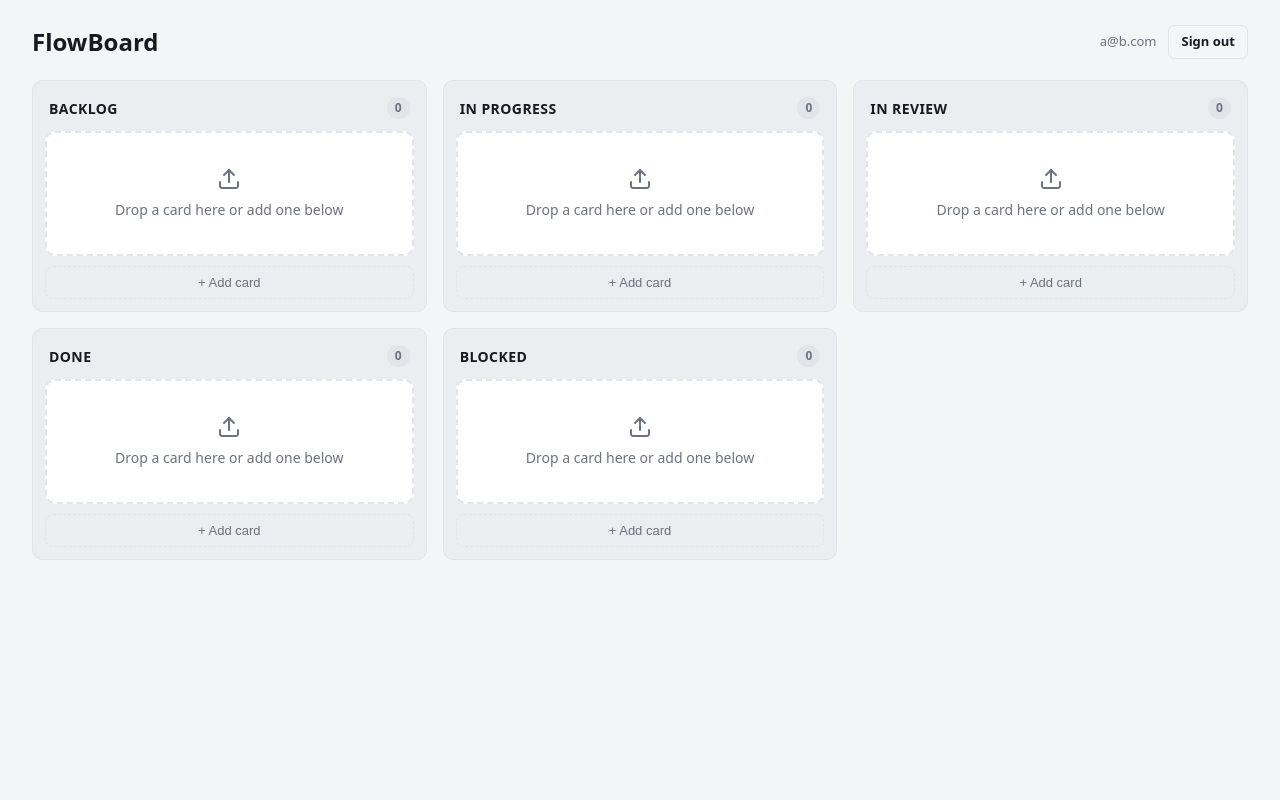
Test: Board › creates a new card via the modal
Click the button "+ Add card" below "Backlog".
click(229, 282)  # box [45,266,414,299]
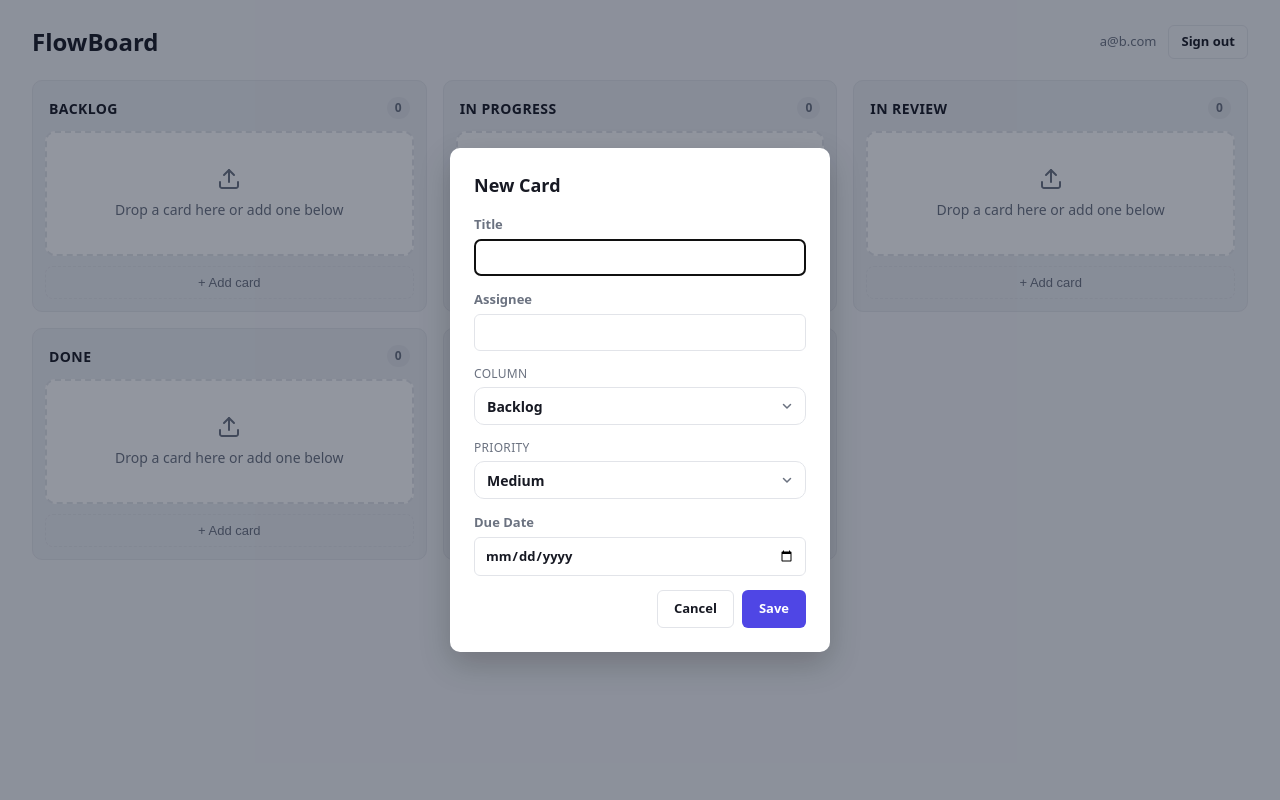
Type "Write docs" into the field labelled "Title".
click(640, 258); type("Write docs")  # box [474,239,806,276]
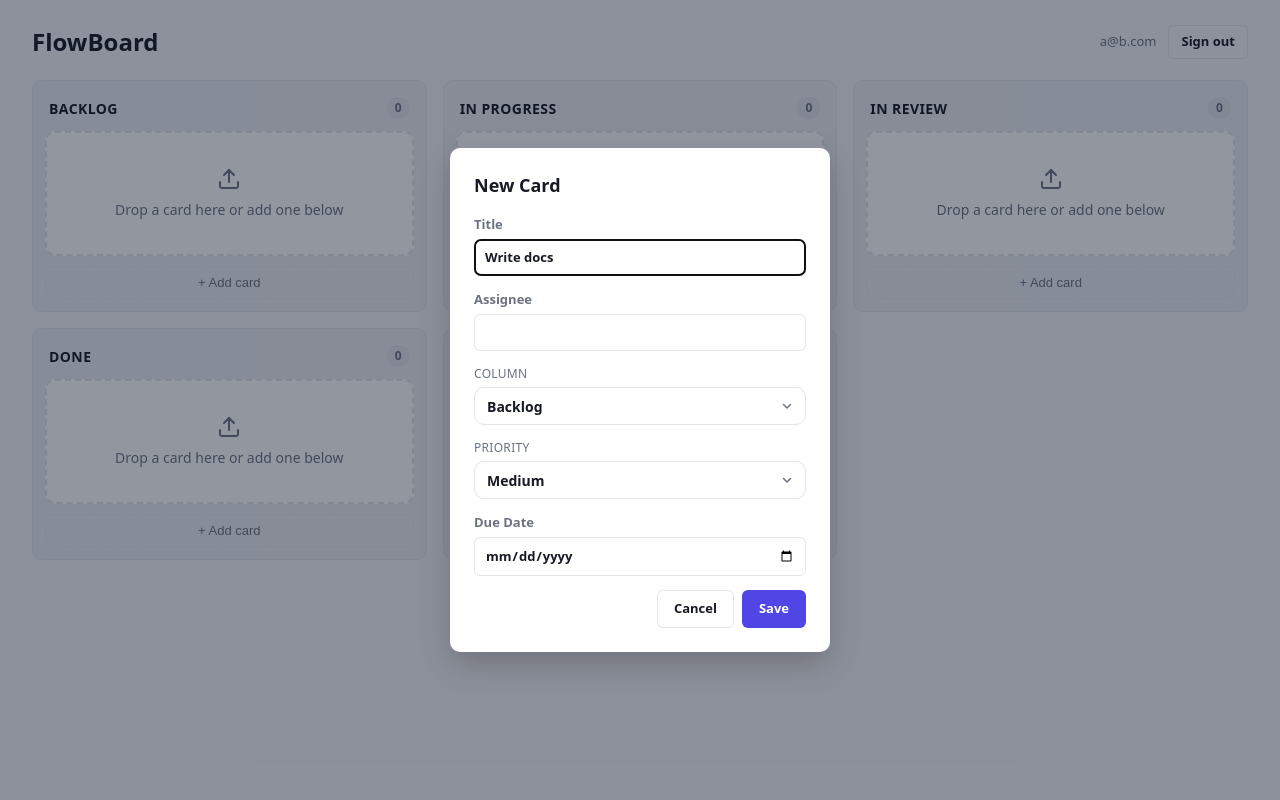
Type "Dana" into the field labelled "Assignee".
click(640, 333); type("Dana")  # box [474,314,806,351]
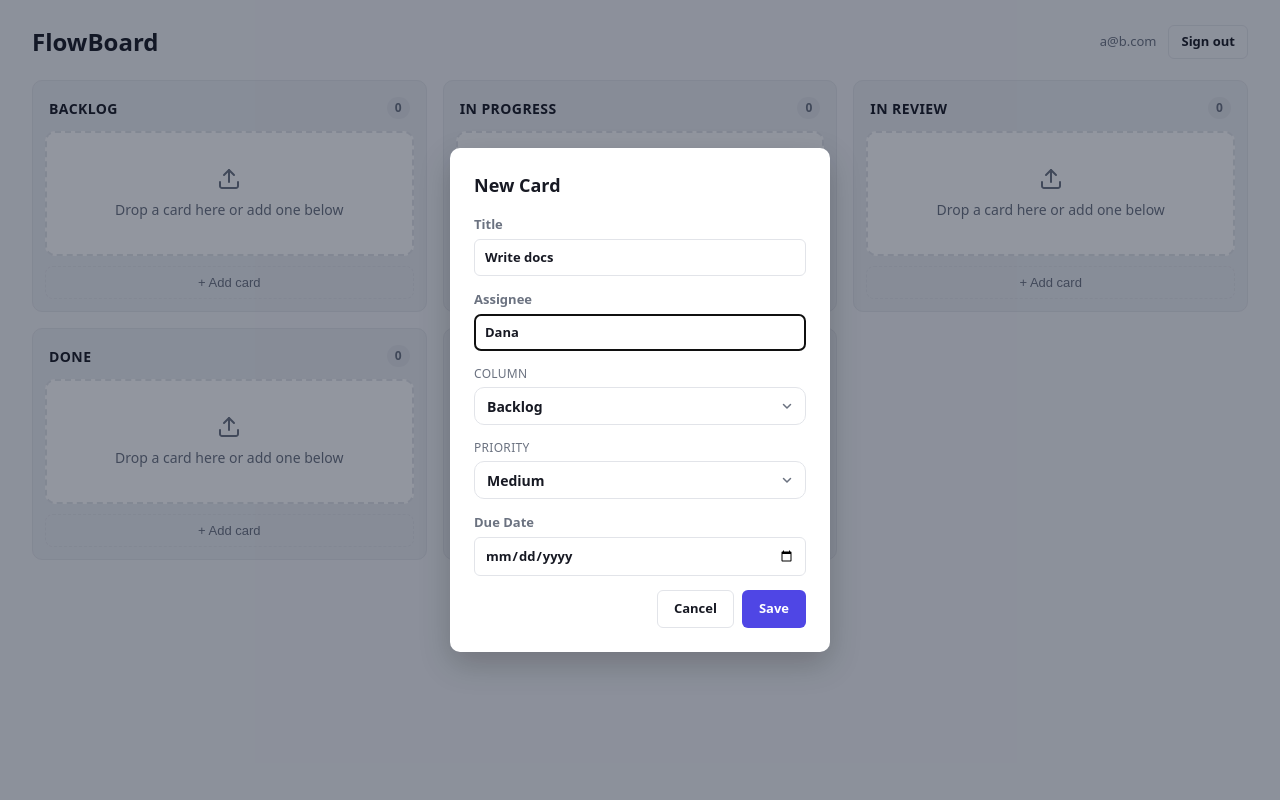
Type "2026-03-01" into the date field labelled "Due Date".
click(640, 557); type("2026-03-01")  # box [474,537,806,576]
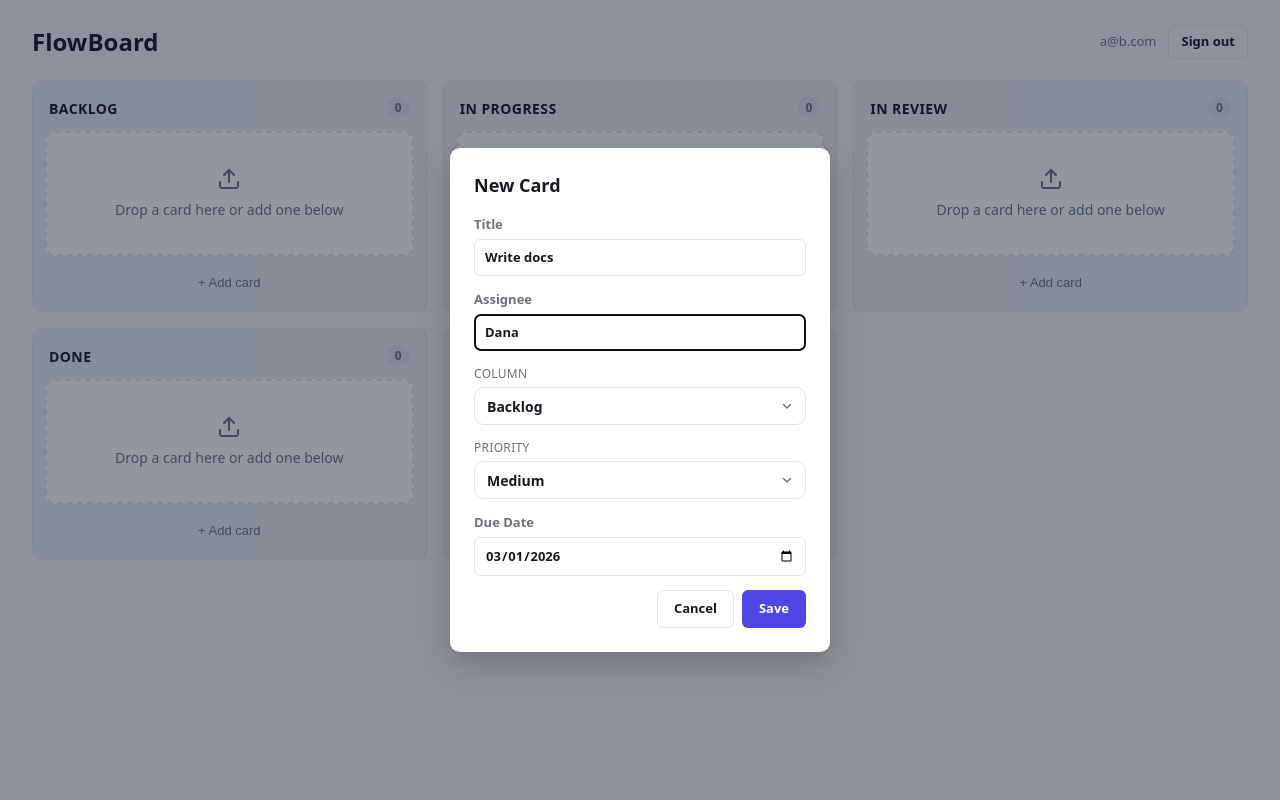
Click the button "Save".
click(774, 609)  # box [742,590,806,628]
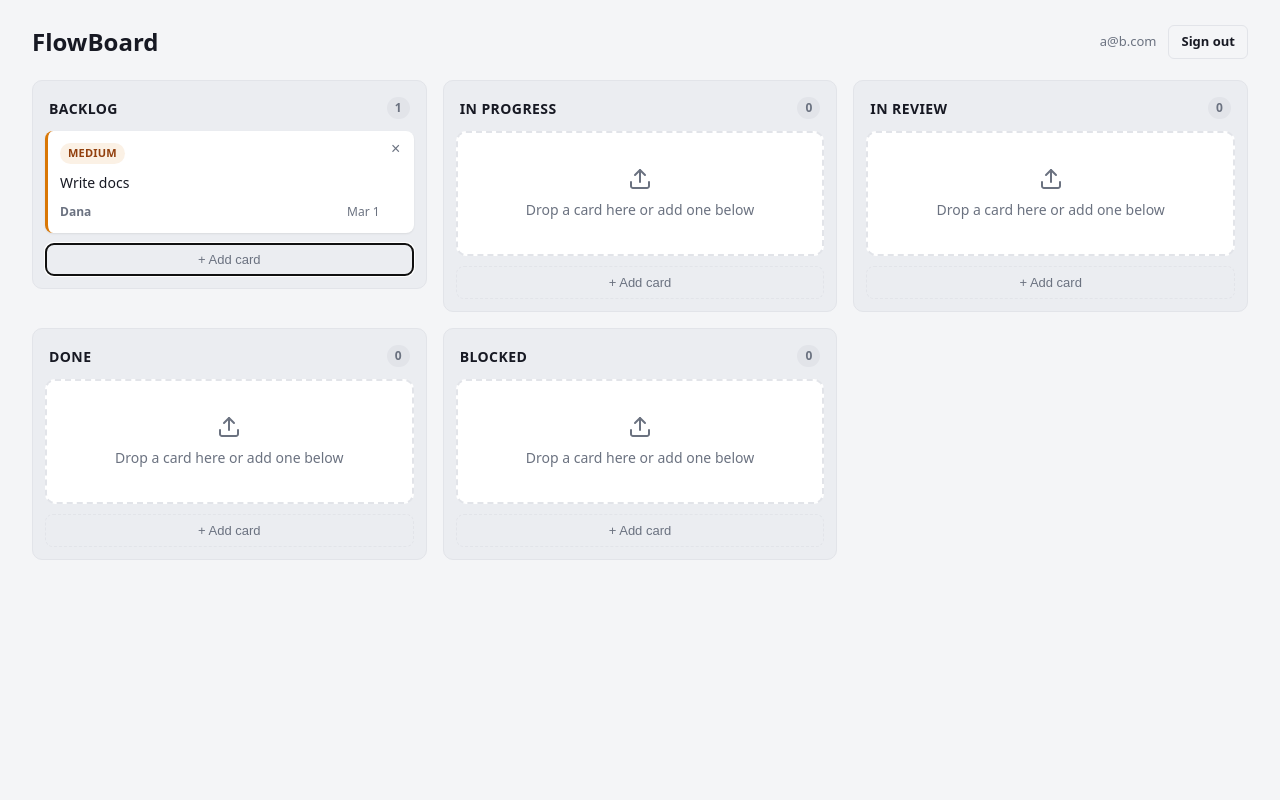
Result: the text "Write docs" is shown at [60,172,129,192]
